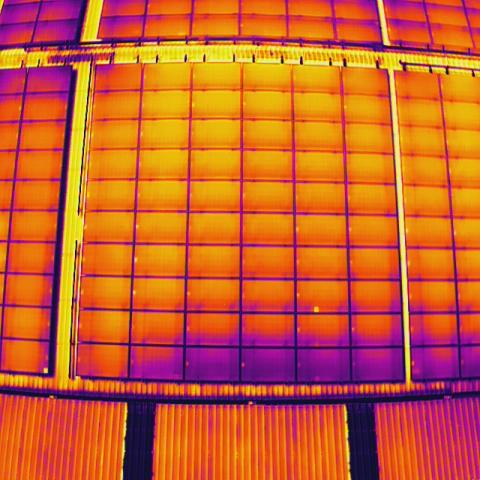fault: (312, 304, 320, 314), (42, 366, 50, 376)
